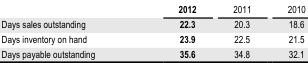table: (0, 1, 304, 60)
table column: (0, 1, 135, 60), (135, 1, 213, 60), (213, 1, 268, 60), (268, 1, 304, 60)
table column header: (0, 1, 304, 15)
table row: (0, 15, 304, 30), (0, 30, 304, 45), (0, 45, 304, 60), (0, 1, 304, 15)
